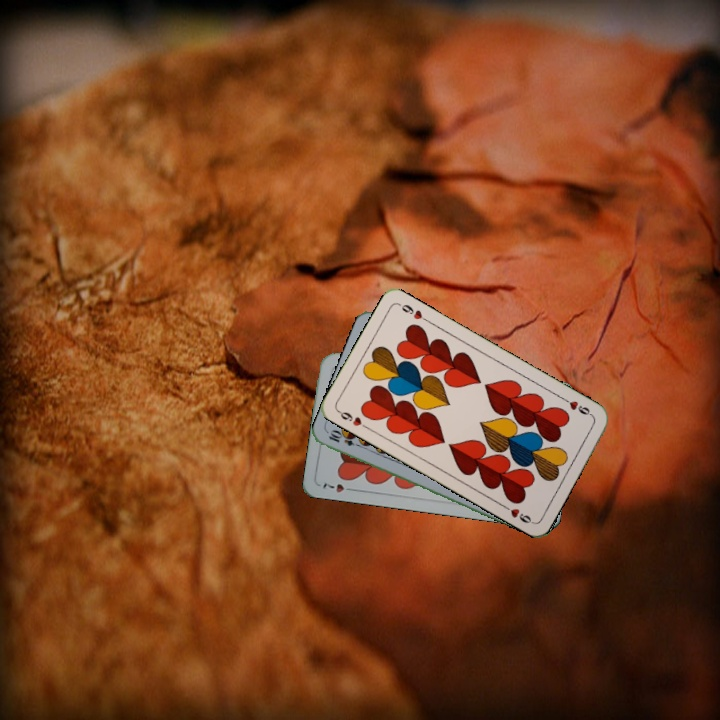E10: (324, 428, 365, 450)
H7: (319, 479, 358, 495)
H9: (558, 394, 596, 420), (334, 406, 371, 432)
